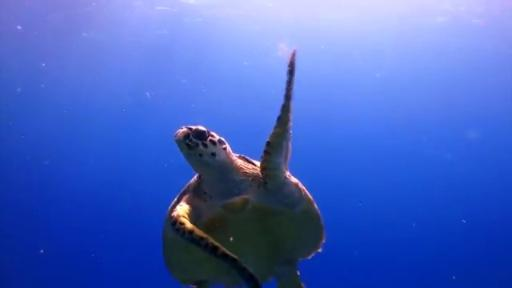Fish: (164, 51, 324, 287)
